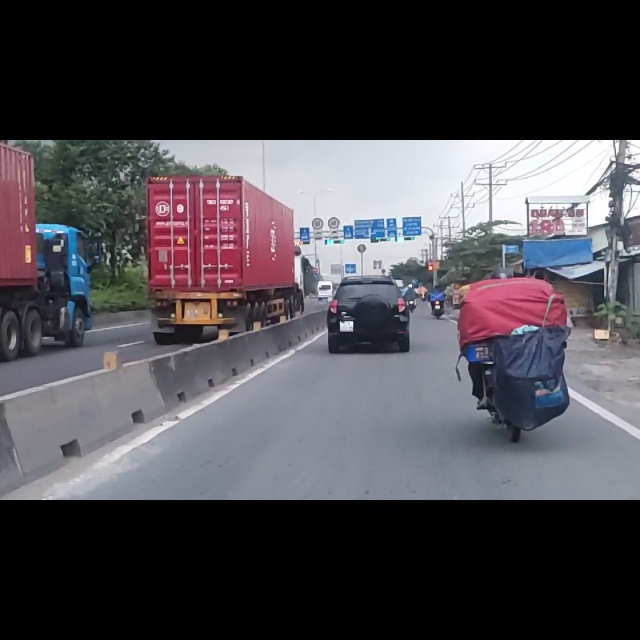bien_nguy_hiem: (329, 136, 340, 158), (312, 139, 324, 159)
